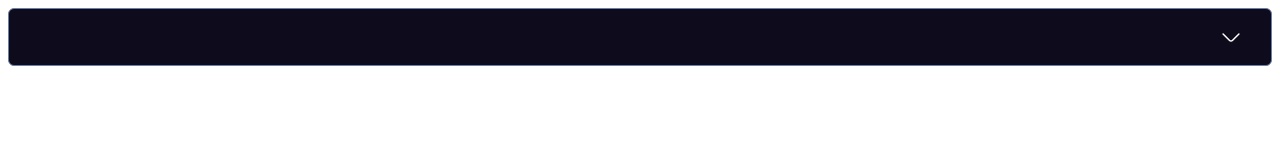
Test: Accordion › Default › opens & close content correctly
Step 1. Click the button with test id "accordion-header" → (1231, 37), box [8,8,1272,66]
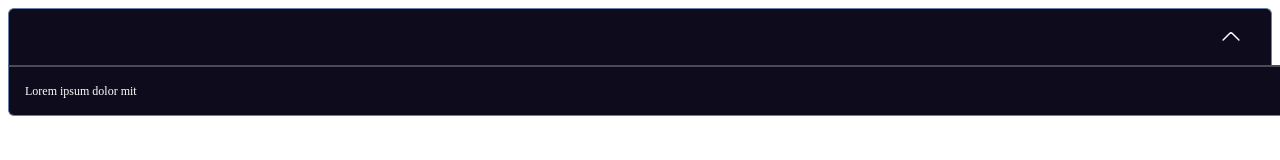
Expected: the button with test id "accordion-header" is expanded
Step 2. Click the button with test id "accordion-header" → (1231, 37), box [8,8,1272,65]
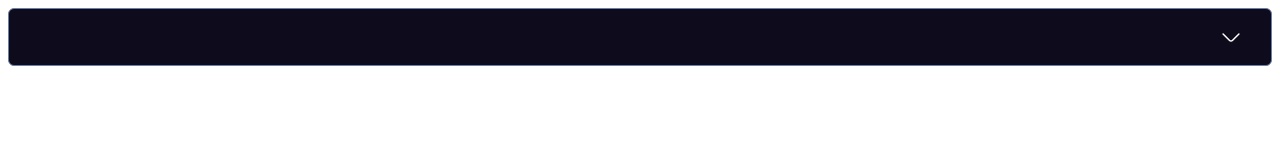
Expected: the button with test id "accordion-header" is collapsed, [8,8,1272,66]
